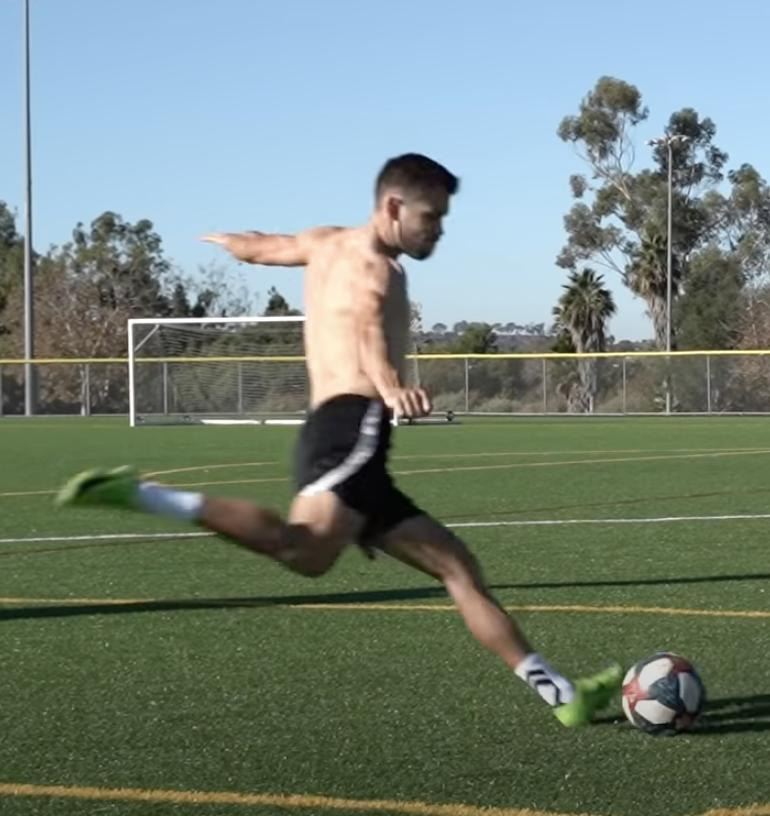ball: (621, 654, 704, 738)
foot: (553, 660, 629, 729), (56, 463, 142, 510)
person: (57, 149, 623, 772)
